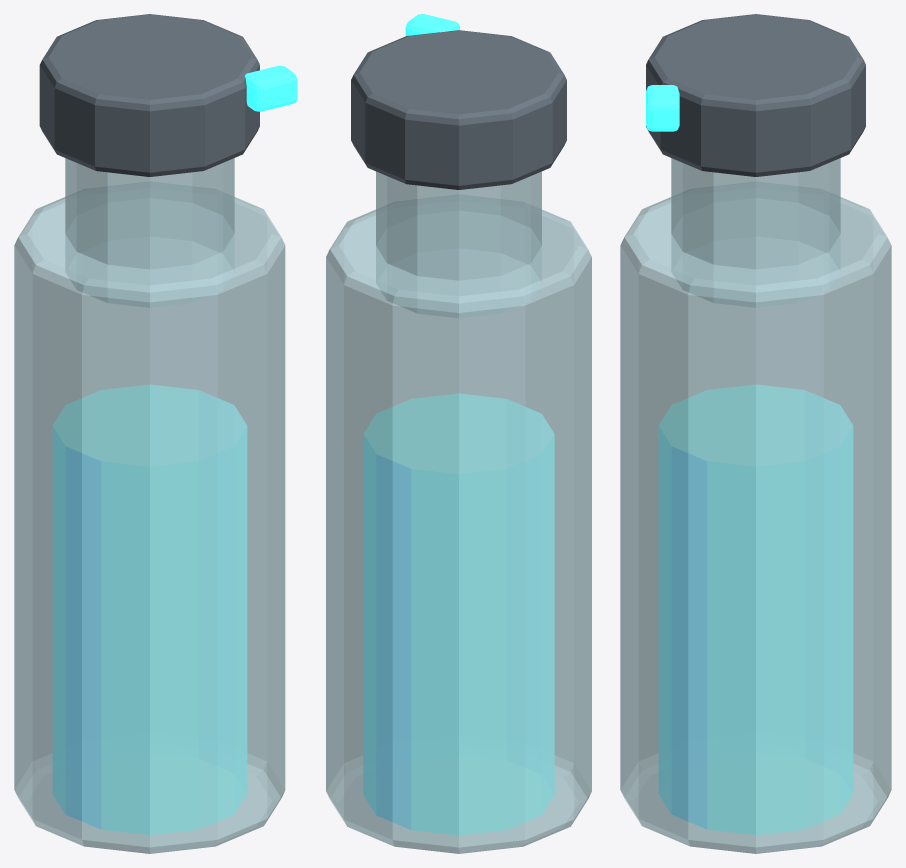
File: item_ch1_compound_b.glb
3 views of the same model, side by side, from view 1: azimuth 30°, elevation 25°; view 2: azimuth 150°, elevation 25°; view 3: azimuth 270°, elevation 25° (orthographic).
Visible parts, largest first — view 1: Glass ampoule.001, Clear contents.001, Sealed cap.001, Narrow neck.001, Cap witness notch.001; view 2: Glass ampoule.001, Clear contents.001, Sealed cap.001, Narrow neck.001, Cap witness notch.001; view 3: Glass ampoule.001, Clear contents.001, Sealed cap.001, Narrow neck.001, Cap witness notch.001.
Boxes of the visible parts, <box> form: Glass ampoule.001: <box>14,182,285,853</box>; Clear contents.001: <box>53,384,246,834</box>; Sealed cap.001: <box>39,14,259,176</box>; Narrow neck.001: <box>65,158,234,307</box>; Cap witness notch.001: <box>245,65,297,111</box>; Glass ampoule.001: <box>326,195,591,853</box>; Clear contents.001: <box>363,394,554,835</box>; Sealed cap.001: <box>351,30,566,189</box>; Narrow neck.001: <box>376,171,541,317</box>; Cap witness notch.001: <box>405,14,459,35</box>; Glass ampoule.001: <box>620,182,891,853</box>; Clear contents.001: <box>659,384,852,834</box>; Sealed cap.001: <box>646,14,865,176</box>; Narrow neck.001: <box>671,158,840,307</box>; Cap witness notch.001: <box>646,85,679,131</box>.
Size of the model in its own units: 0.032 by 0.097 by 0.032.
